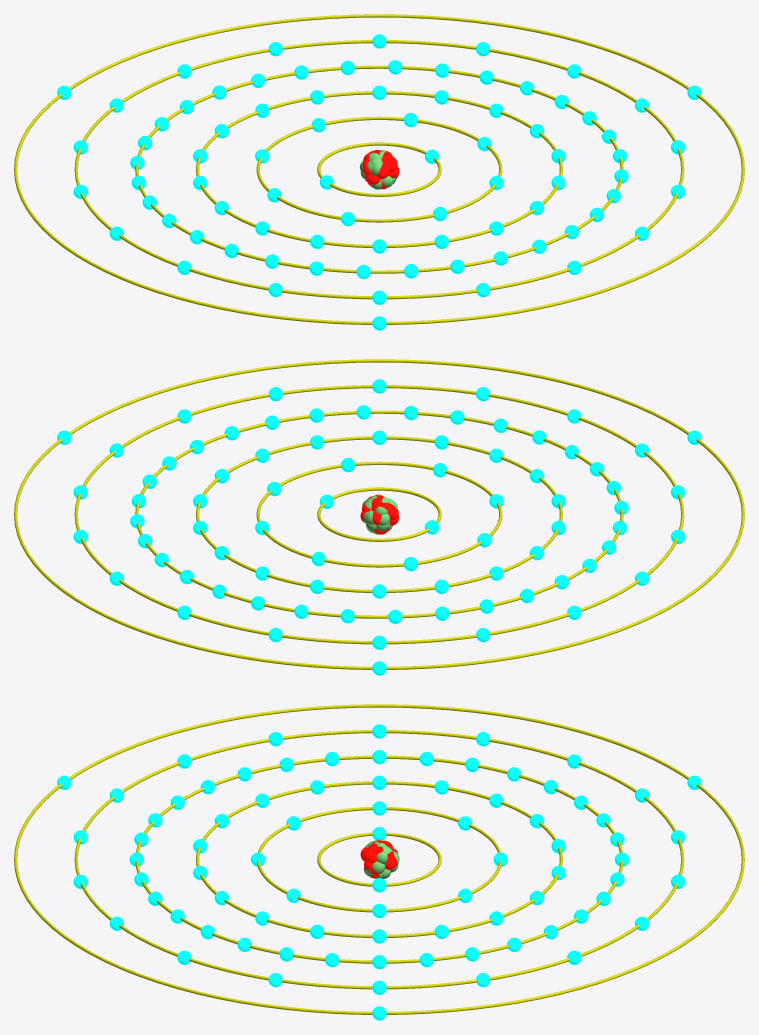
The model's file is atomo_81.glb.
The picture shows the model from 3 angles, top to bottom: view 1: azimuth 30°, elevation 25°; view 2: azimuth 150°, elevation 25°; view 3: azimuth 270°, elevation 25°; orthographic projection.
Visible parts, largest first — view 1: orbital_6, orbital_5, orbital_4, orbital_3, orbital_2, orbital_1; view 2: orbital_6, orbital_5, orbital_4, orbital_3, orbital_2, orbital_1; view 3: orbital_6, orbital_5, orbital_4, orbital_3, orbital_2, orbital_1.
Part boxes in pixels (x1=…): orbital_6: x1=14, y1=14, x2=744, y2=324; orbital_5: x1=74, y1=40, x2=684, y2=299; orbital_4: x1=135, y1=65, x2=623, y2=273; orbital_3: x1=196, y1=91, x2=562, y2=247; orbital_2: x1=256, y1=116, x2=502, y2=222; orbital_1: x1=317, y1=142, x2=441, y2=196; orbital_6: x1=14, y1=359, x2=744, y2=669; orbital_5: x1=74, y1=385, x2=684, y2=644; orbital_4: x1=135, y1=410, x2=623, y2=618; orbital_3: x1=196, y1=436, x2=562, y2=592; orbital_2: x1=256, y1=461, x2=502, y2=567; orbital_1: x1=317, y1=487, x2=441, y2=541; orbital_6: x1=14, y1=704, x2=744, y2=1014; orbital_5: x1=74, y1=730, x2=684, y2=989; orbital_4: x1=135, y1=755, x2=623, y2=963; orbital_3: x1=196, y1=781, x2=562, y2=937; orbital_2: x1=257, y1=807, x2=501, y2=912; orbital_1: x1=317, y1=832, x2=441, y2=886.
Size of the model in its own units: 18.22 by 0.9991 by 18.08.
